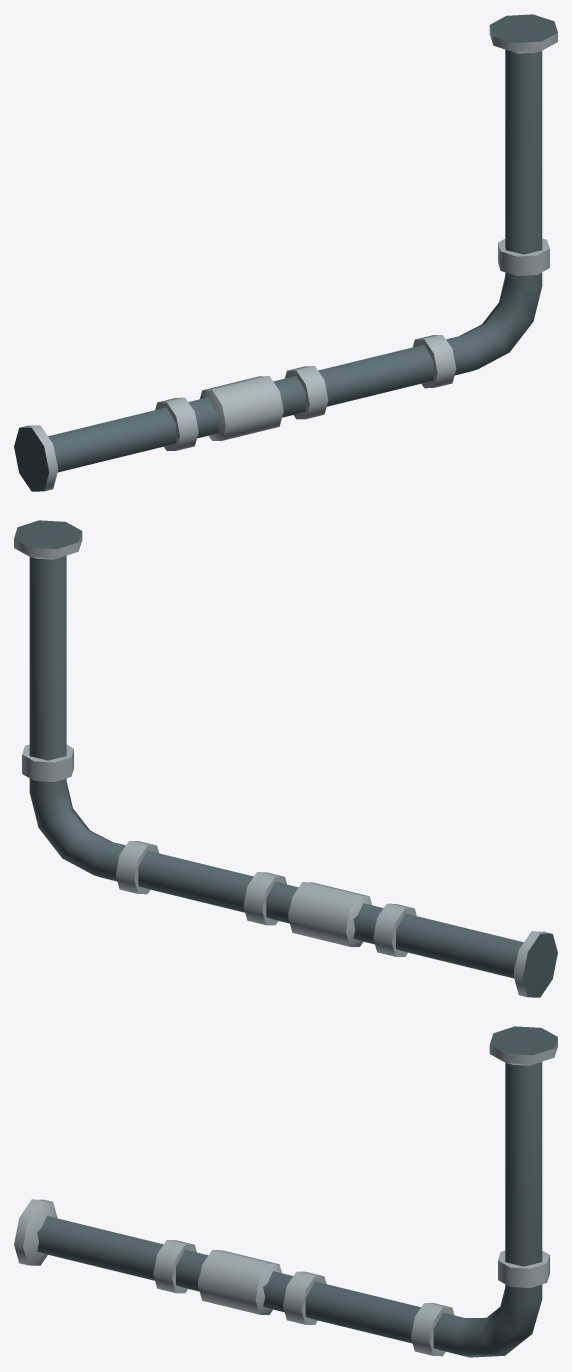
File: Pipe_007.glb
3 renders of one model, top to bottom at view 1: azimuth 30°, elevation 25°; view 2: azimuth 150°, elevation 25°; view 3: azimuth 330°, elevation 25°, orthographic.
Parts seen in each view (by area): view 1: Pipe_007; view 2: Pipe_007; view 3: Pipe_007.
Part boxes in pixels (x1,y1,x2,y2): Pipe_007: [14, 14, 557, 491]; Pipe_007: [14, 520, 557, 997]; Pipe_007: [14, 1026, 557, 1357].
Size of the model in its own units: 2.18 by 1.36 by 0.255.
Materials: 1 (1 with a texture image).
